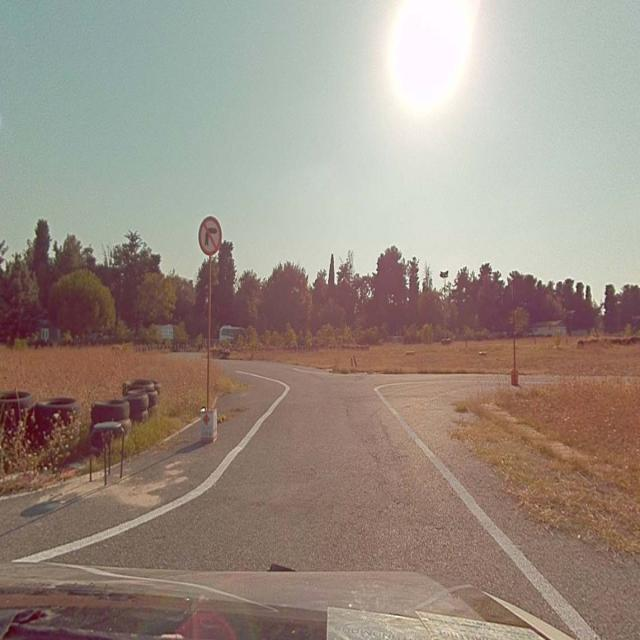sagadonulmez: (198, 216, 222, 253)
